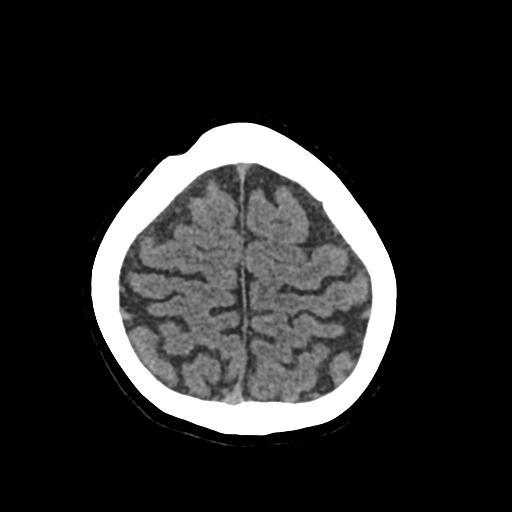Normal_Brain: (31, 32, 474, 491)
